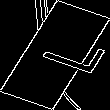L_NW: (15, 30, 95, 80)
